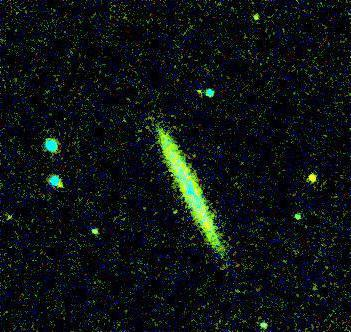star: (296, 164, 326, 194)
